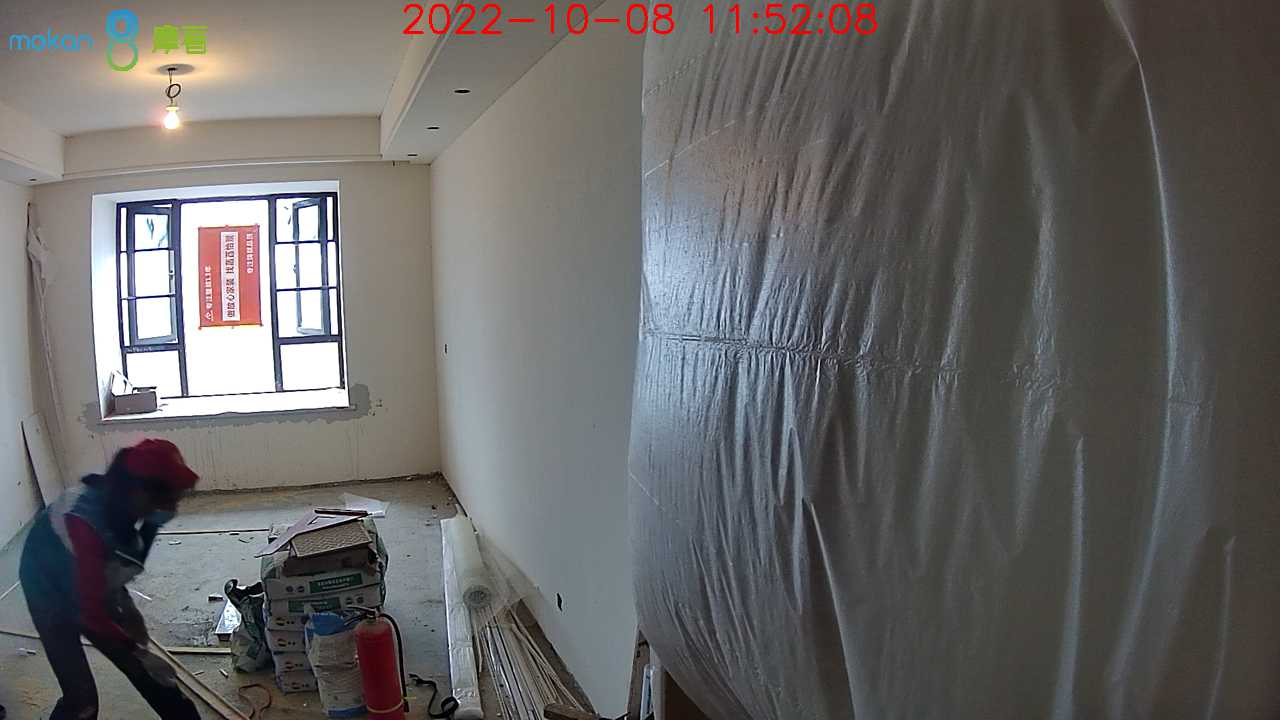people: (20, 439, 203, 720)
window: (113, 197, 346, 395)
